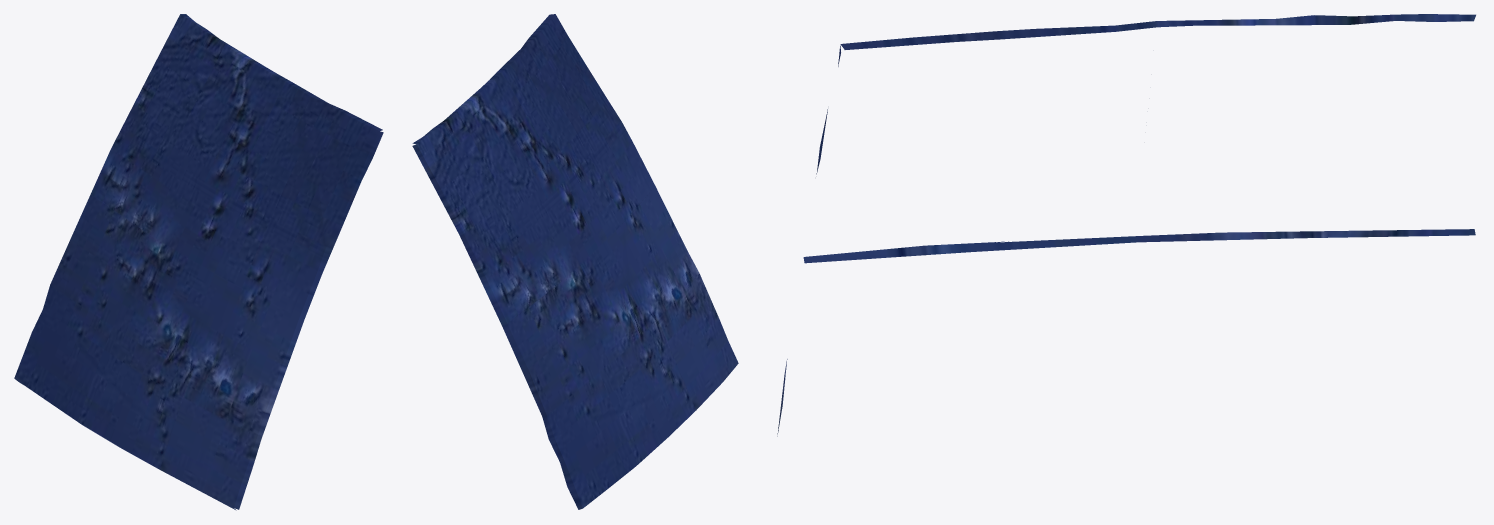
3 views of the same model, side by side, from view 1: azimuth 30°, elevation 25°; view 2: azimuth 150°, elevation 25°; view 3: azimuth 270°, elevation 25° (orthographic). The views are drawn at different scales.
Size of the model in its own units: 715999 by 1118669 by 1166562.
Materials: 1 (1 with a texture image).
